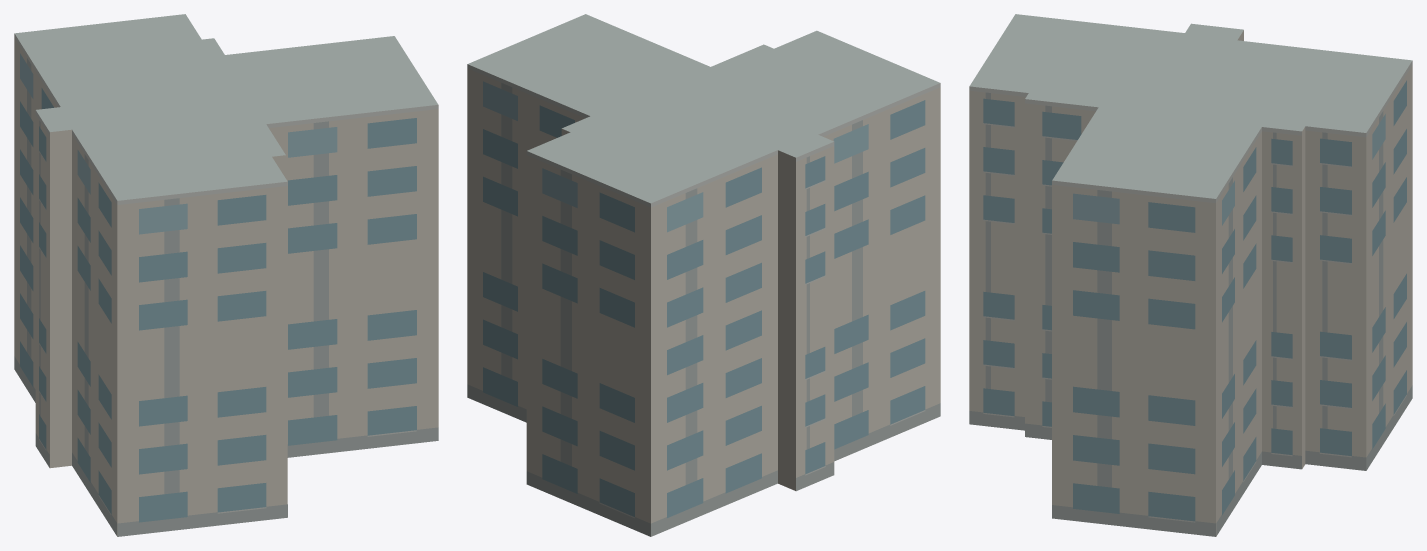
Rendered from survey-upis-32987695.glb.
3 views of the same model, side by side, from view 1: azimuth 30°, elevation 25°; view 2: azimuth 150°, elevation 25°; view 3: azimuth 270°, elevation 25° (orthographic).
Visible parts, largest first — view 1: survey-upis-32987695.tmp; view 2: survey-upis-32987695.tmp; view 3: survey-upis-32987695.tmp.
Boxes of the visible parts, <box> form: survey-upis-32987695.tmp: <box>14,14,438,536</box>; survey-upis-32987695.tmp: <box>467,14,940,536</box>; survey-upis-32987695.tmp: <box>969,14,1412,536</box>.
Bounding box in the file's own units: 22.67 × 19.3 × 22.95.
